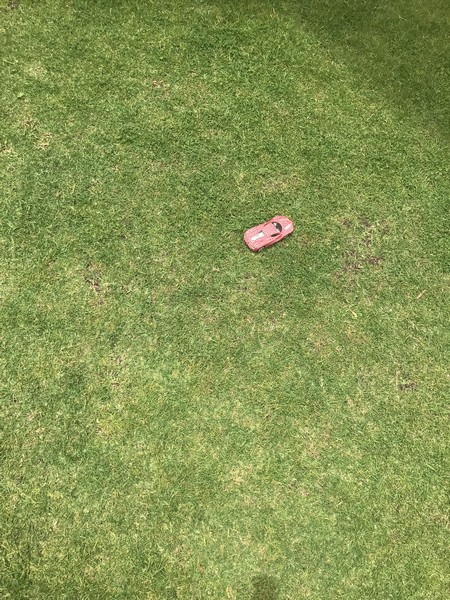RC: (244, 213, 296, 254)
